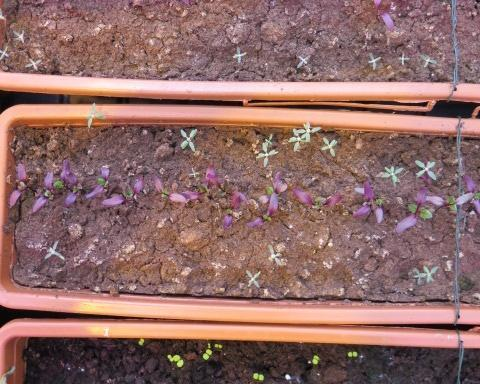weed: (37, 237, 66, 260), (176, 124, 198, 152), (264, 242, 284, 268), (319, 134, 338, 157), (243, 267, 262, 289), (228, 43, 248, 63), (365, 50, 382, 71), (418, 51, 438, 68), (22, 54, 42, 70), (293, 51, 311, 68), (9, 26, 26, 43), (393, 50, 410, 65), (200, 346, 212, 359), (249, 371, 265, 380), (309, 353, 320, 364), (344, 349, 359, 357), (135, 336, 145, 345), (212, 341, 223, 348)
